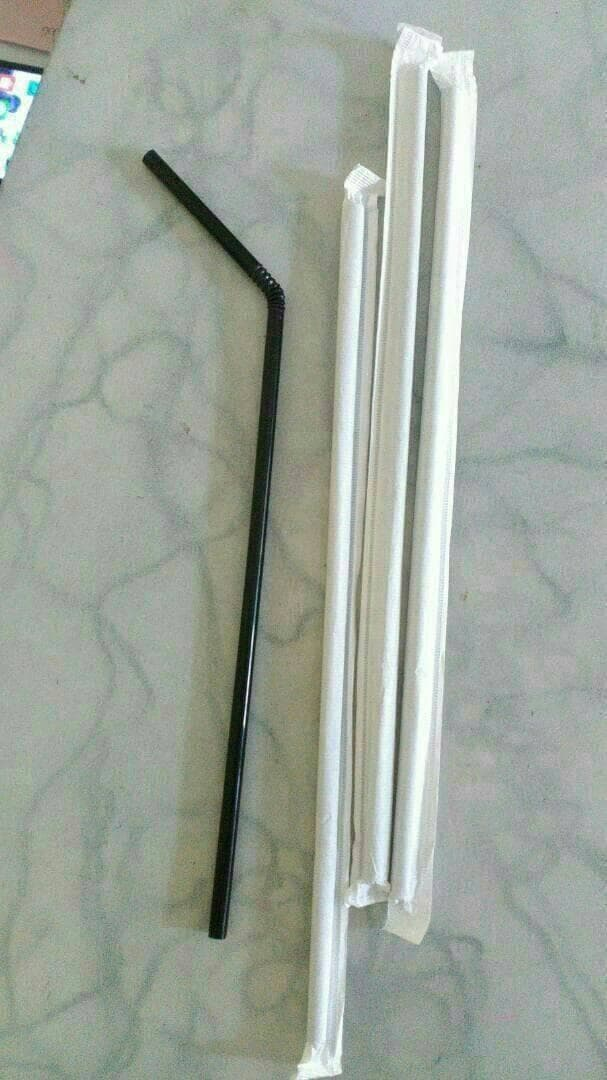PP: (143, 152, 288, 939)
